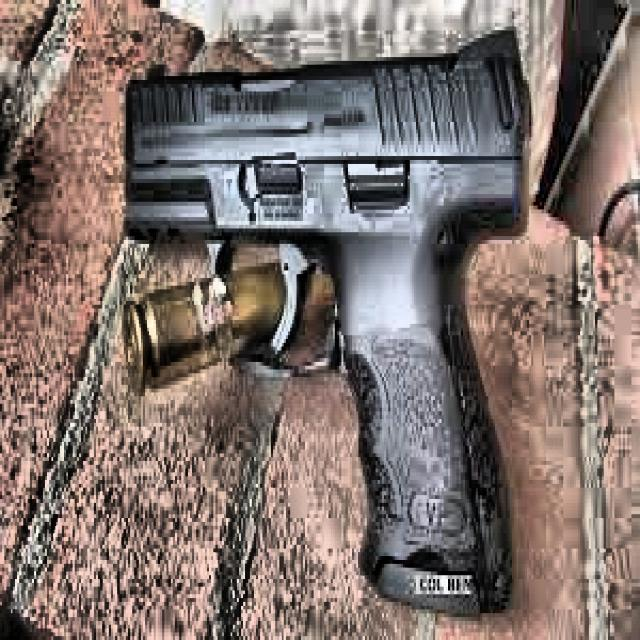HKVP9: (122, 26, 533, 624)
